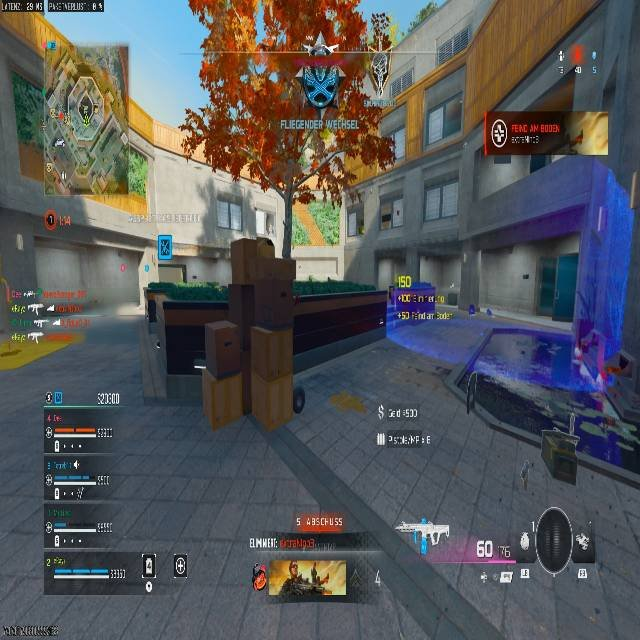player: (179, 108, 209, 165)
